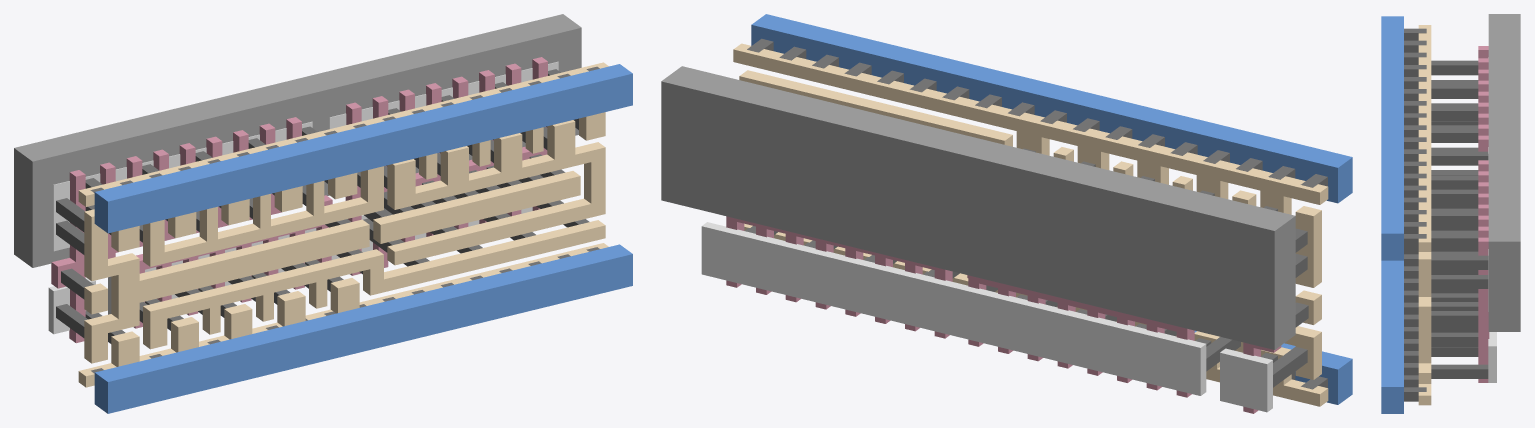
The model's file is sky130_fd_sc_hd__einvn_8.gds.gltf.
The picture shows the model from 3 angles, left to right: view 1: azimuth 30°, elevation 25°; view 2: azimuth 150°, elevation 25°; view 3: azimuth 270°, elevation 25°; orthographic projection. The views are drawn at different scales.
Parts seen in each view (by area): view 1: sky130_fd_sc_hd__einvn_8_li1, sky130_fd_sc_hd__einvn_8_met1, sky130_fd_sc_hd__einvn_8_nwell, sky130_fd_sc_hd__einvn_8_poly, sky130_fd_sc_hd__einvn_8_licon, sky130_fd_sc_hd__einvn_8_diff, sky130_fd_sc_hd__einvn_8_mcon; view 2: sky130_fd_sc_hd__einvn_8_nwell, sky130_fd_sc_hd__einvn_8_diff, sky130_fd_sc_hd__einvn_8_li1, sky130_fd_sc_hd__einvn_8_met1, sky130_fd_sc_hd__einvn_8_poly, sky130_fd_sc_hd__einvn_8_mcon, sky130_fd_sc_hd__einvn_8_licon; view 3: sky130_fd_sc_hd__einvn_8_licon, sky130_fd_sc_hd__einvn_8_nwell, sky130_fd_sc_hd__einvn_8_met1, sky130_fd_sc_hd__einvn_8_mcon, sky130_fd_sc_hd__einvn_8_li1, sky130_fd_sc_hd__einvn_8_poly, sky130_fd_sc_hd__einvn_8_diff.
Part boxes in pixels (bbox=[...]): sky130_fd_sc_hd__einvn_8_li1: bbox=[78, 62, 608, 387]; sky130_fd_sc_hd__einvn_8_met1: bbox=[94, 64, 632, 413]; sky130_fd_sc_hd__einvn_8_nwell: bbox=[14, 14, 581, 267]; sky130_fd_sc_hd__einvn_8_poly: bbox=[51, 57, 547, 343]; sky130_fd_sc_hd__einvn_8_licon: bbox=[56, 69, 589, 343]; sky130_fd_sc_hd__einvn_8_diff: bbox=[48, 61, 558, 334]; sky130_fd_sc_hd__einvn_8_mcon: bbox=[90, 66, 599, 373]; sky130_fd_sc_hd__einvn_8_nwell: bbox=[661, 66, 1295, 349]; sky130_fd_sc_hd__einvn_8_diff: bbox=[701, 222, 1272, 412]; sky130_fd_sc_hd__einvn_8_li1: bbox=[733, 43, 1328, 406]; sky130_fd_sc_hd__einvn_8_met1: bbox=[751, 14, 1352, 404]; sky130_fd_sc_hd__einvn_8_poly: bbox=[726, 216, 1281, 413]; sky130_fd_sc_hd__einvn_8_mcon: bbox=[747, 38, 1327, 389]; sky130_fd_sc_hd__einvn_8_licon: bbox=[745, 148, 1308, 387]; sky130_fd_sc_hd__einvn_8_licon: bbox=[1431, 60, 1488, 378]; sky130_fd_sc_hd__einvn_8_nwell: bbox=[1488, 14, 1520, 331]; sky130_fd_sc_hd__einvn_8_met1: bbox=[1381, 16, 1403, 413]; sky130_fd_sc_hd__einvn_8_mcon: bbox=[1404, 28, 1426, 401]; sky130_fd_sc_hd__einvn_8_li1: bbox=[1418, 25, 1431, 405]; sky130_fd_sc_hd__einvn_8_poly: bbox=[1478, 46, 1489, 382]; sky130_fd_sc_hd__einvn_8_diff: bbox=[1488, 57, 1496, 382].
Bounding box in the file's own units: 8.66 × 3.2 × 2.24.
